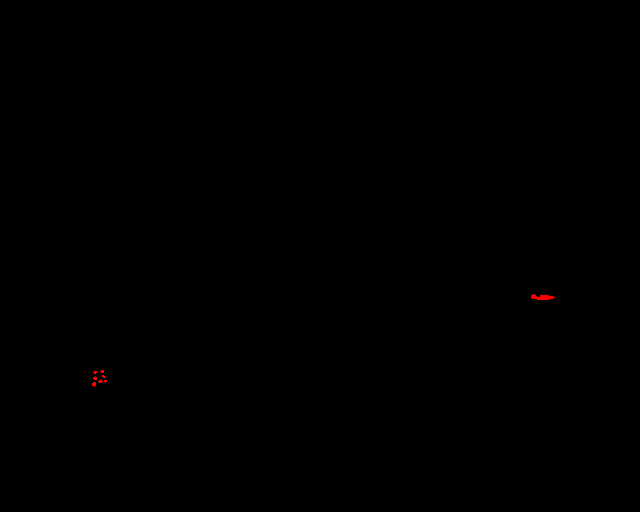Target: (531, 294, 555, 300), (92, 382, 96, 387), (93, 376, 97, 380), (98, 380, 103, 383), (100, 370, 104, 373), (93, 371, 97, 374), (102, 375, 105, 378), (104, 380, 107, 383)
